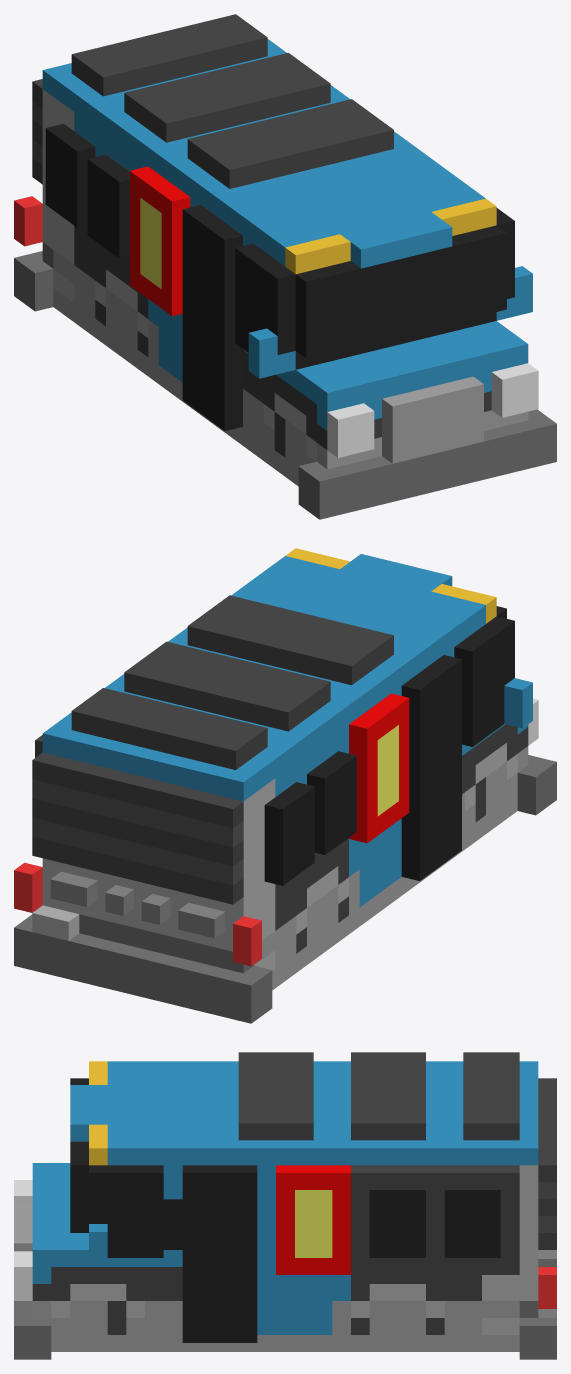
The model's file is van.obj.
The picture shows the model from 3 angles, top to bottom: view 1: azimuth 30°, elevation 25°; view 2: azimuth 150°, elevation 25°; view 3: azimuth 270°, elevation 25°; orthographic projection. The views are drawn at different scales.
Size of the model in its own units: 1.5 by 1.3 by 2.9.
Materials: 1 (1 with a texture image).
